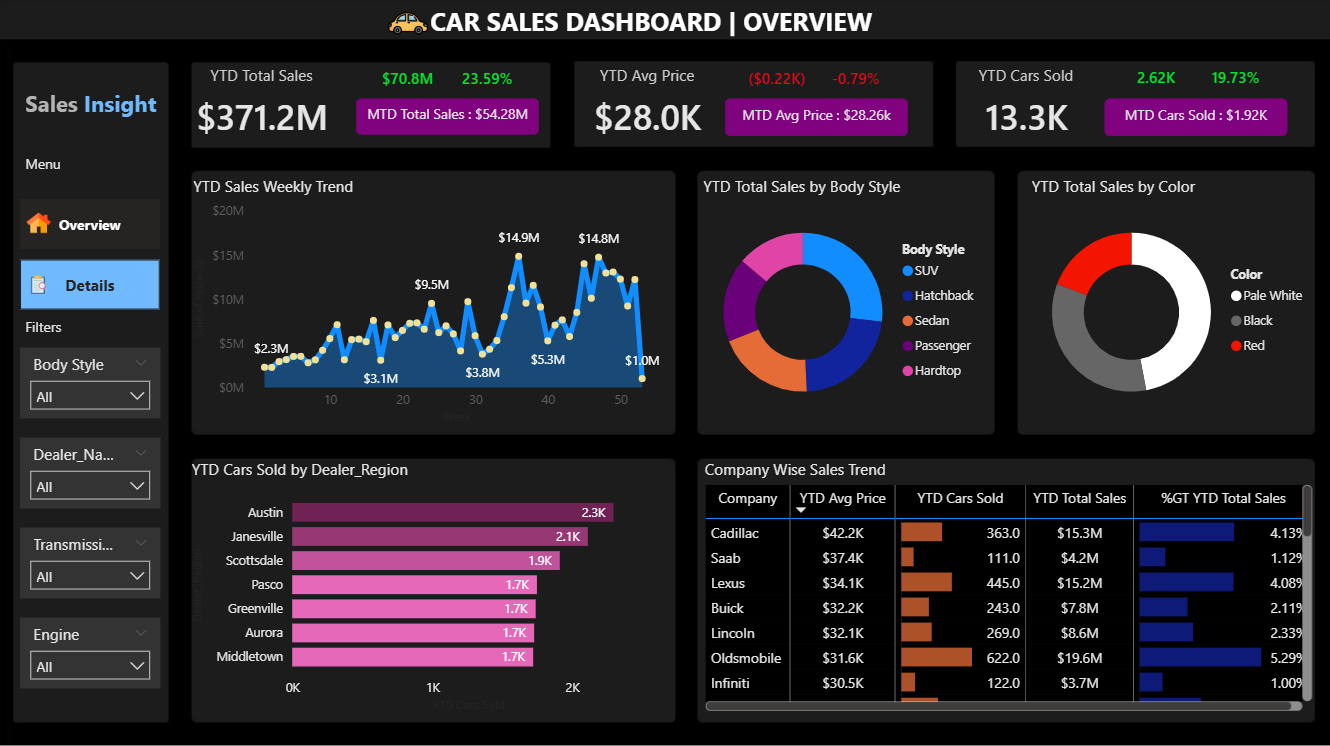

The page's visual inventory and layout, read from the dashboard file:
{"tool":"powerbi","page":{"name":"Overview","canvas":[1280,720],"ordinal":0},"visuals":[{"type":"card","title":"YTD Total Sales","fields":{"Values":["car_data.YTD Total Sales"]},"box":[180.2,63.6,149.9,80.3],"z":0},{"type":"card","fields":{"Values":["car_data.sales differences"]},"box":[357.4,62.1,75.7,34.8],"z":1000},{"type":"card","fields":{"Values":["car_data.YOY Sales Growth"]},"box":[433.1,62.1,75.7,34.8],"z":2000},{"type":"card","fields":{"Values":["car_data.MTD KPI"]},"box":[345.2,96.9,175.6,34.8],"z":3000},{"type":"card","title":"YTD Avg Price","fields":{"Values":["car_data.YTD Avg Price"]},"box":[549.7,63.6,149.9,80.3],"z":4000},{"type":"card","fields":{"Values":["car_data.AVG Price diff"]},"box":[710.4,61.8,76.2,34.5],"z":5000},{"type":"card","fields":{"Values":["car_data.YOY Avg Growth"]},"box":[786.6,61.8,74.8,34.5],"z":6000},{"type":"card","fields":{"Values":["car_data.MTD Avg Price KPI"]},"box":[698.9,96.4,175.4,36],"z":7000},{"type":"card","title":"YTD Cars Sold","fields":{"Values":["car_data.YTD Cars Sold"]},"box":[912.5,63.9,149.1,80.3],"z":8000},{"type":"card","fields":{"Values":["car_data.Car sold diff"]},"box":[1074.7,60.6,75.4,34.4],"z":9000},{"type":"card","fields":{"Values":["car_data.YoY Cars Sold Growth"]},"box":[1150,60.6,75.4,34.4],"z":10000},{"type":"card","fields":{"Values":["car_data.MTD Cars Sold KPI"]},"box":[1063.2,96.7,175.3,36],"z":11000},{"type":"areaChart","title":"   YTD Sales Weekly Trend ","fields":{"Category":["Calender Table.Week"],"Y":["Sum(car_data.Price ($))"]},"box":[183.5,170.4,457.1,242.5],"z":12000},{"type":"donutChart","fields":{"Category":["car_data.Body Style"],"Y":["car_data.YTD Total Sales"]},"box":[673.3,170.4,278.5,242.5],"z":13000},{"type":"group","id":"g1","title":"Group 1","box":[22.7,299.9,134.8,361.9],"z":13000,"group":"g2"},{"type":"donutChart","fields":{"Y":["car_data.YTD Total Sales"],"Category":["car_data.Color"]},"box":[987.9,170.4,278.5,242.5],"z":14000},{"type":"textbox","box":[22.7,143.9,104.5,34.8],"z":15000,"group":"g2"},{"type":"barChart","fields":{"Category":["car_data.Dealer_Region"],"Y":["car_data.YTD Cars Sold"]},"box":[183.2,442.1,457.3,246.8],"z":15000},{"type":"pageNavigator","box":[22.7,192.4,134.8,107.5],"z":16000,"group":"g2"},{"type":"tableEx","title":"Company Wise Sales Trend","fields":{"Values":["car_data.Company","car_data.YTD Avg Price","car_data.YTD Cars Sold","car_data.YTD Total Sales","Divide(car_data.YTD Total Sales, ScopedEval(car_data.YTD Total Sales, []))"]},"box":[673.8,442.1,592.1,246.8],"z":16000},{"type":"textbox","box":[411.3,0,457.3,41.7],"z":17000},{"type":"textbox","box":[22.7,80.3,157.5,63.6],"z":17000,"group":"g2"},{"type":"image","box":[357.7,0,73.8,48.5],"z":17002},{"type":"group","id":"g2","title":"Group 2","box":[17.2,80.3,163,581.5],"z":17003},{"type":"image","box":[17.2,198.9,46.7,33.3],"z":18000,"group":"g2"},{"type":"slicer","fields":{"Values":["car_data.Body Style"]},"box":[22.7,334.7,134.8,68.1],"z":18000,"group":"g1"},{"type":"image","box":[26.6,260,28,28.7],"z":19000,"group":"g2"},{"type":"slicer","fields":{"Values":["car_data.Dealer_Name"]},"box":[22.7,421,134.8,68.1],"z":19000,"group":"g1"},{"type":"slicer","fields":{"Values":["car_data.Transmission"]},"box":[22.7,507.3,134.8,68.1],"z":20000,"group":"g1"},{"type":"slicer","fields":{"Values":["car_data.Engine"]},"box":[22.7,593.7,134.8,68.1],"z":21000,"group":"g1"},{"type":"textbox","box":[22.7,299.9,104.5,34.8],"z":22000,"group":"g1"}]}

Visuals, with their boxes in screenshot pixels (x1, y1, x2, y2), scaled from the page's 1280x720 canvas onto the 1330x746 screenshot:
"YTD Total Sales" card: <box>187,66,343,149</box>
card - car_data.sales differences: <box>371,64,450,100</box>
card - car_data.YOY Sales Growth: <box>450,64,529,100</box>
card - car_data.MTD KPI: <box>359,100,541,136</box>
"YTD Avg Price" card: <box>571,66,727,149</box>
card - car_data.AVG Price diff: <box>738,64,817,100</box>
card - car_data.YOY Avg Growth: <box>817,64,895,100</box>
card - car_data.MTD Avg Price KPI: <box>726,100,908,137</box>
"YTD Cars Sold" card: <box>948,66,1103,149</box>
card - car_data.Car sold diff: <box>1117,63,1195,98</box>
card - car_data.YoY Cars Sold Growth: <box>1195,63,1273,98</box>
card - car_data.MTD Cars Sold KPI: <box>1105,100,1287,137</box>
"   YTD Sales Weekly Trend " areaChart: <box>191,177,666,428</box>
donutChart - car_data.Body Style x car_data.YTD Total Sales: <box>700,177,989,428</box>
"Group 1" group: <box>24,311,164,686</box>
donutChart - car_data.YTD Total Sales x car_data.Color: <box>1026,177,1316,428</box>
textbox: <box>24,149,132,185</box>
barChart - car_data.Dealer_Region x car_data.YTD Cars Sold: <box>190,458,666,714</box>
pageNavigator: <box>24,199,164,311</box>
"Company Wise Sales Trend" tableEx: <box>700,458,1315,714</box>
textbox: <box>427,0,903,43</box>
textbox: <box>24,83,187,149</box>
image: <box>372,0,448,50</box>
"Group 2" group: <box>18,83,187,686</box>
image: <box>18,206,66,241</box>
slicer - car_data.Body Style: <box>24,347,164,417</box>
image: <box>28,269,57,299</box>
slicer - car_data.Dealer_Name: <box>24,436,164,507</box>
slicer - car_data.Transmission: <box>24,526,164,596</box>
slicer - car_data.Engine: <box>24,615,164,686</box>
textbox: <box>24,311,132,347</box>
